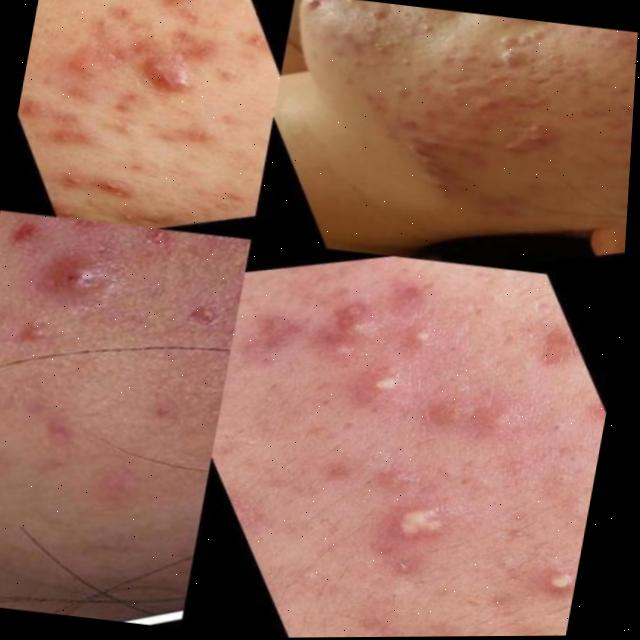Acne: (206, 277, 623, 625), (290, 0, 640, 218), (0, 196, 238, 467), (7, 0, 285, 227)
